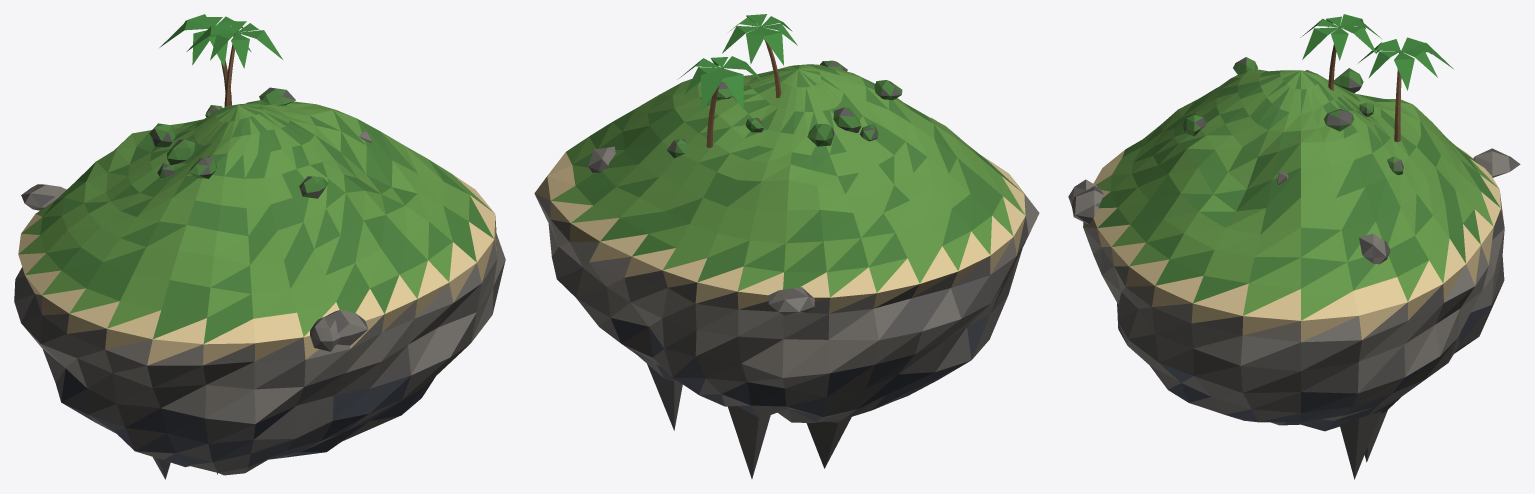
File: island_hill.obj
3 views of the same model, side by side, from view 1: azimuth 30°, elevation 25°; view 2: azimuth 150°, elevation 25°; view 3: azimuth 270°, elevation 25° (orthographic). The views are drawn at different scales.
Visible parts, largest first — view 1: island_hill; view 2: island_hill; view 3: island_hill.
Boxes of the visible parts, <box> form: island_hill: <box>14,14,505,479</box>; island_hill: <box>534,14,1039,478</box>; island_hill: <box>1068,14,1520,479</box>.
Size of the model in its own units: 24.29 by 23.88 by 22.26.
1 material, 1 textured.
